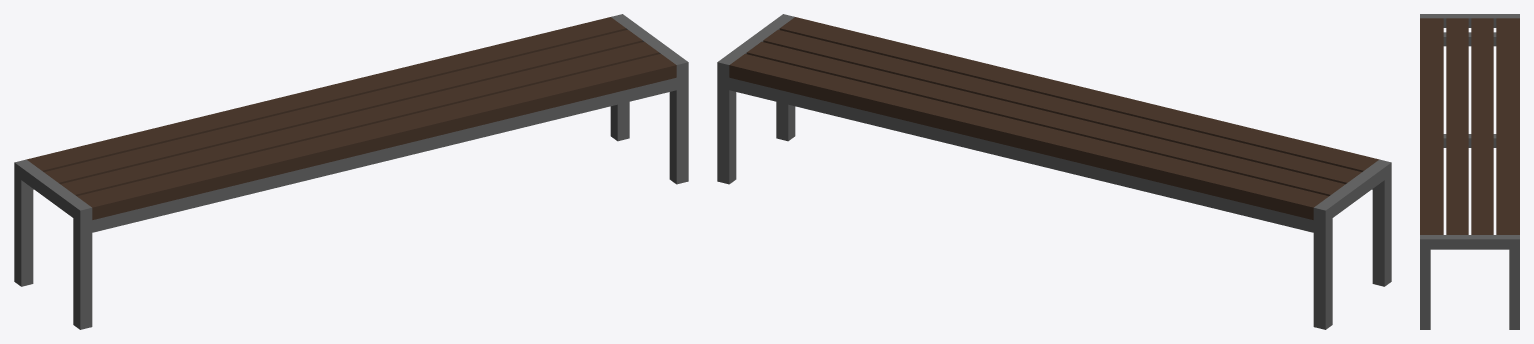
Rendered from Bench.fbx.
3 renders of one model, left to right at view 1: azimuth 30°, elevation 25°; view 2: azimuth 150°, elevation 25°; view 3: azimuth 270°, elevation 25°, orthographic. The views are drawn at different scales.
Parts seen in each view (by area): view 1: Bench; view 2: Bench; view 3: Bench.
Boxes of the visible parts, left/top/right/bottom form: Bench: left=14, top=14, right=688, bottom=329; Bench: left=717, top=14, right=1391, bottom=329; Bench: left=1420, top=14, right=1519, bottom=329.
Bounding box in the file's own units: 4 × 0.75 × 0.75.
